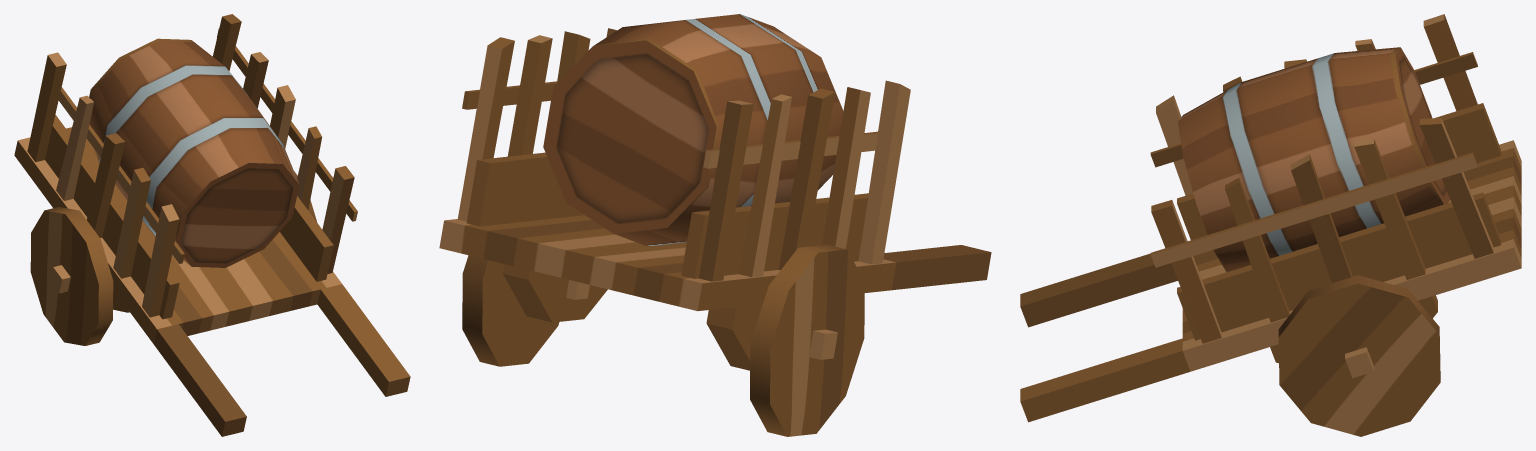
File: Carroça_Barril.fbx
3 renders of one model, left to right at view 1: azimuth 30°, elevation 25°; view 2: azimuth 150°, elevation 25°; view 3: azimuth 270°, elevation 25°, orthographic. The views are drawn at different scales.
Visible parts, largest first — view 1: Carroça_Barril; view 2: Carroça_Barril; view 3: Carroça_Barril.
Boxes of the visible parts, box(x1,y1,x2,y2) form: Carroça_Barril: box(14, 14, 410, 436); Carroça_Barril: box(439, 14, 991, 436); Carroça_Barril: box(1020, 14, 1521, 436).
Bounding box in the file's own units: 110 × 118 × 169.
